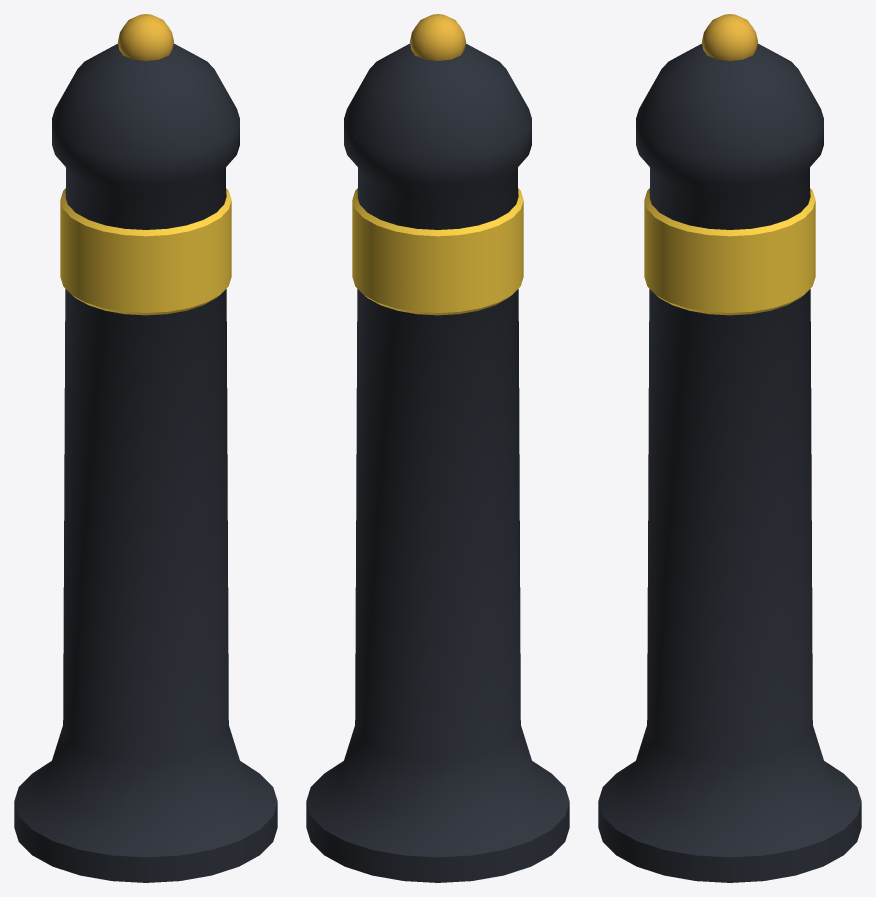
File: balizador_fixo.glb
The picture shows the model from 3 angles, left to right: view 1: azimuth 30°, elevation 25°; view 2: azimuth 150°, elevation 25°; view 3: azimuth 270°, elevation 25°; orthographic projection.
Visible parts, largest first — view 1: balizador_fixo; view 2: balizador_fixo; view 3: balizador_fixo.
Boxes of the visible parts, bbox=[...] form: balizador_fixo: bbox=[14, 14, 277, 882]; balizador_fixo: bbox=[306, 14, 569, 882]; balizador_fixo: bbox=[598, 14, 861, 882].
Bounding box in the file's own units: 0.28 × 0.95 × 0.28.
1 material, 1 textured.
